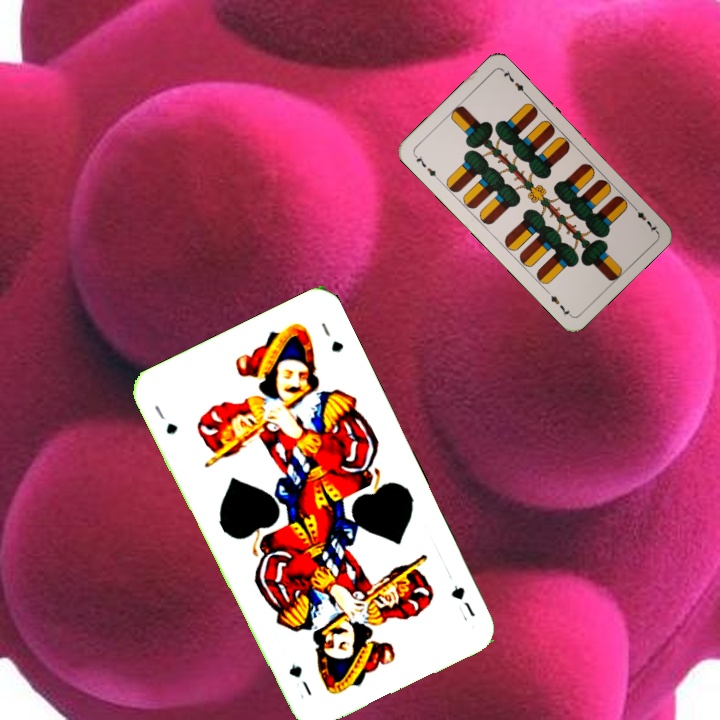E7: (410, 150, 442, 183), (628, 201, 659, 235)
GU: (447, 581, 478, 624), (150, 401, 181, 437)
